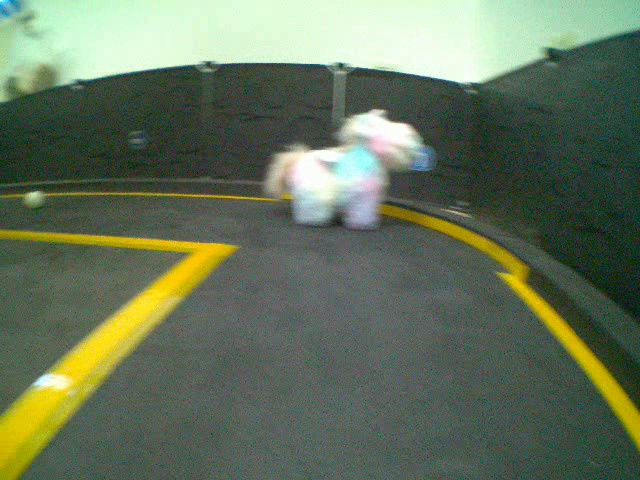unicorn: (258, 105, 424, 233)
